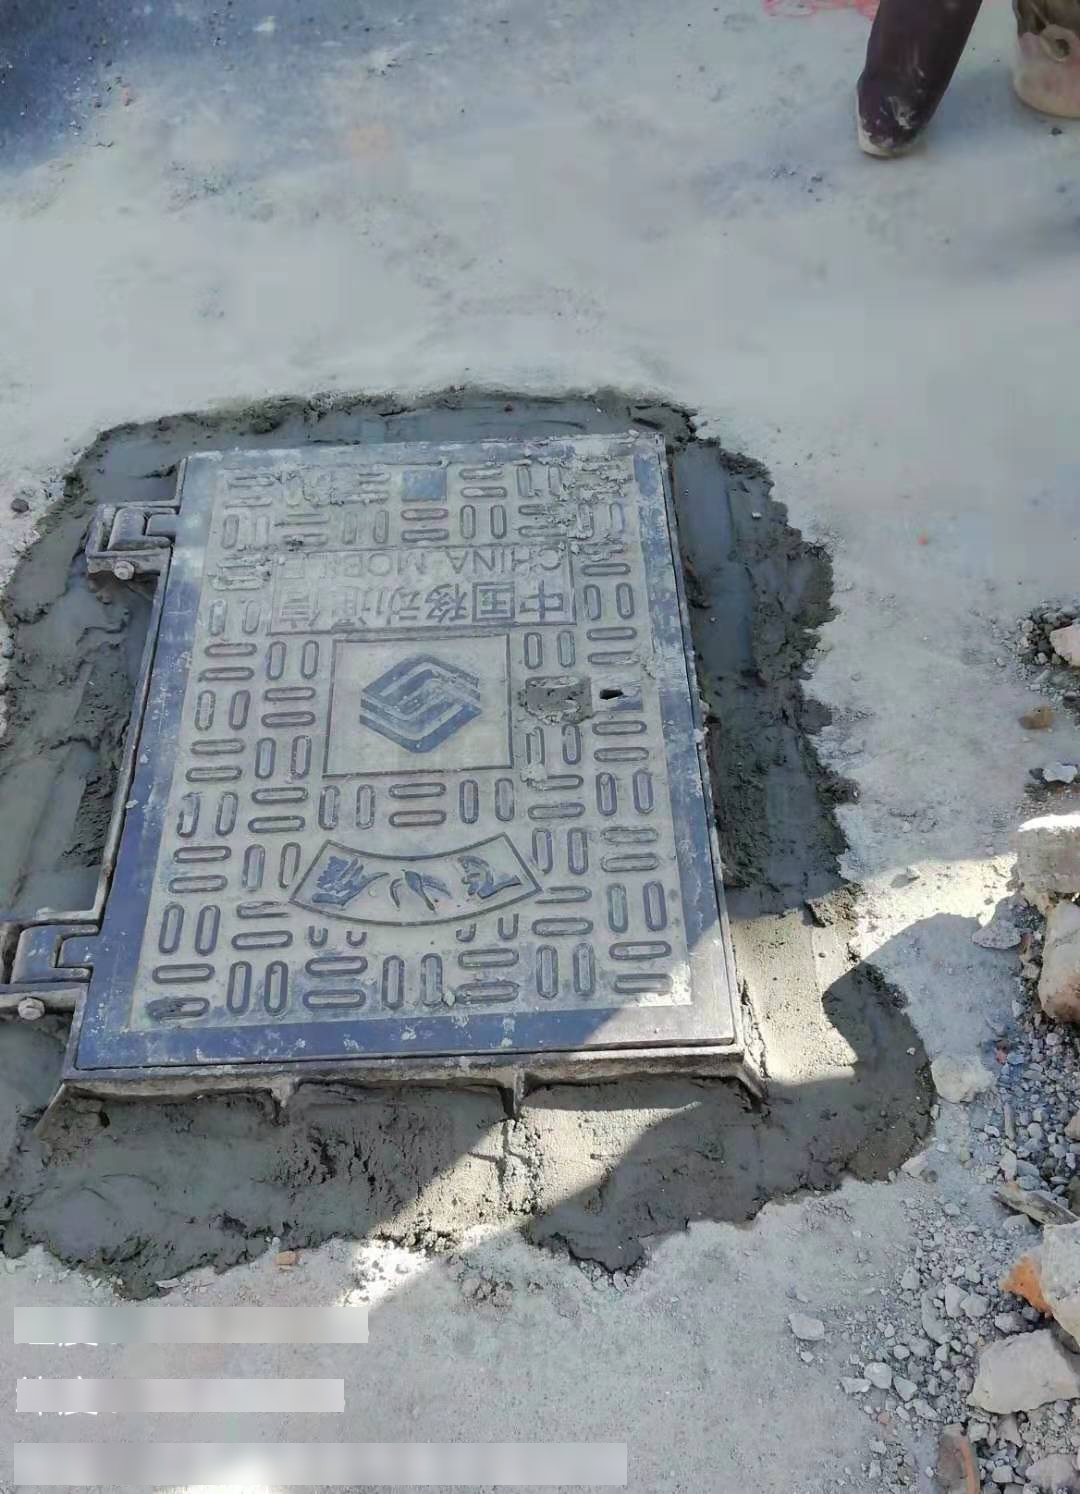good: (1, 433, 756, 1097)
